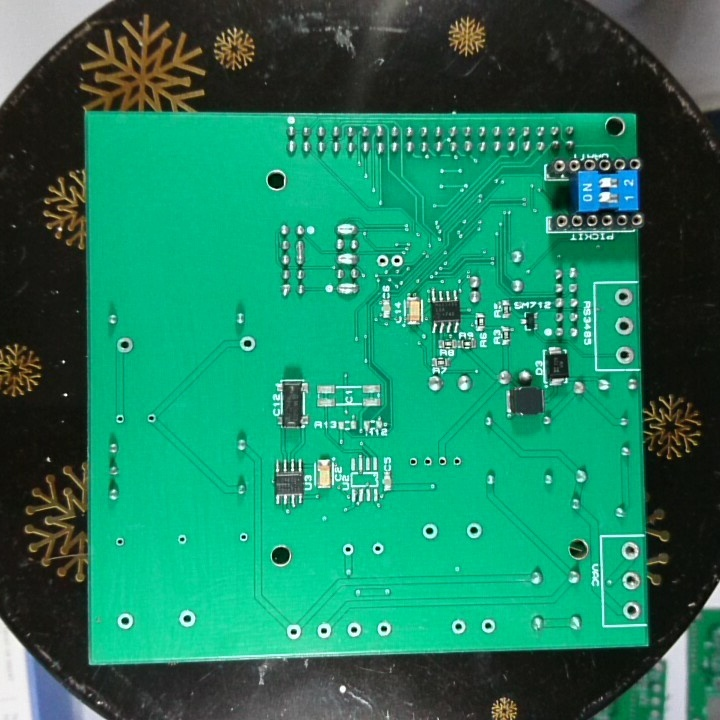F: (619, 568, 643, 592), (176, 607, 199, 631), (619, 539, 642, 563), (612, 285, 634, 309), (614, 344, 637, 366), (613, 315, 635, 338), (114, 334, 137, 355), (621, 598, 642, 621), (236, 333, 257, 355), (314, 620, 335, 642), (373, 618, 394, 640), (463, 519, 485, 540), (114, 612, 137, 632), (420, 520, 440, 542), (283, 621, 303, 642), (448, 617, 468, 637), (344, 619, 363, 639), (479, 615, 497, 635), (143, 409, 159, 429), (449, 452, 465, 472), (339, 541, 357, 558), (375, 252, 391, 271), (113, 410, 128, 429), (389, 252, 403, 272), (113, 534, 129, 551), (370, 539, 385, 557), (420, 453, 435, 469), (435, 454, 450, 469), (406, 454, 420, 470), (174, 532, 189, 546), (236, 530, 251, 544)
P: (334, 281, 362, 298), (294, 238, 308, 266), (335, 221, 359, 237), (334, 252, 359, 267)
